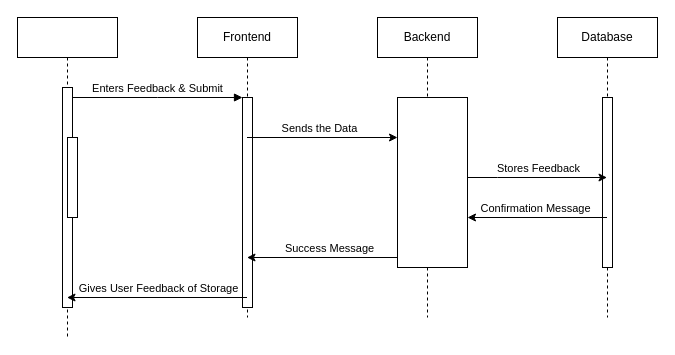
The diagram is 675 pixels wide and 355 high, and some of its shapes have lost their labels. The shapes that lost their labels are listed below. From the top down, each one's centre as x and y in pixels, then its label:
At pixel 67 177: "User".
At pixel 432 182: "Validates the Data".
